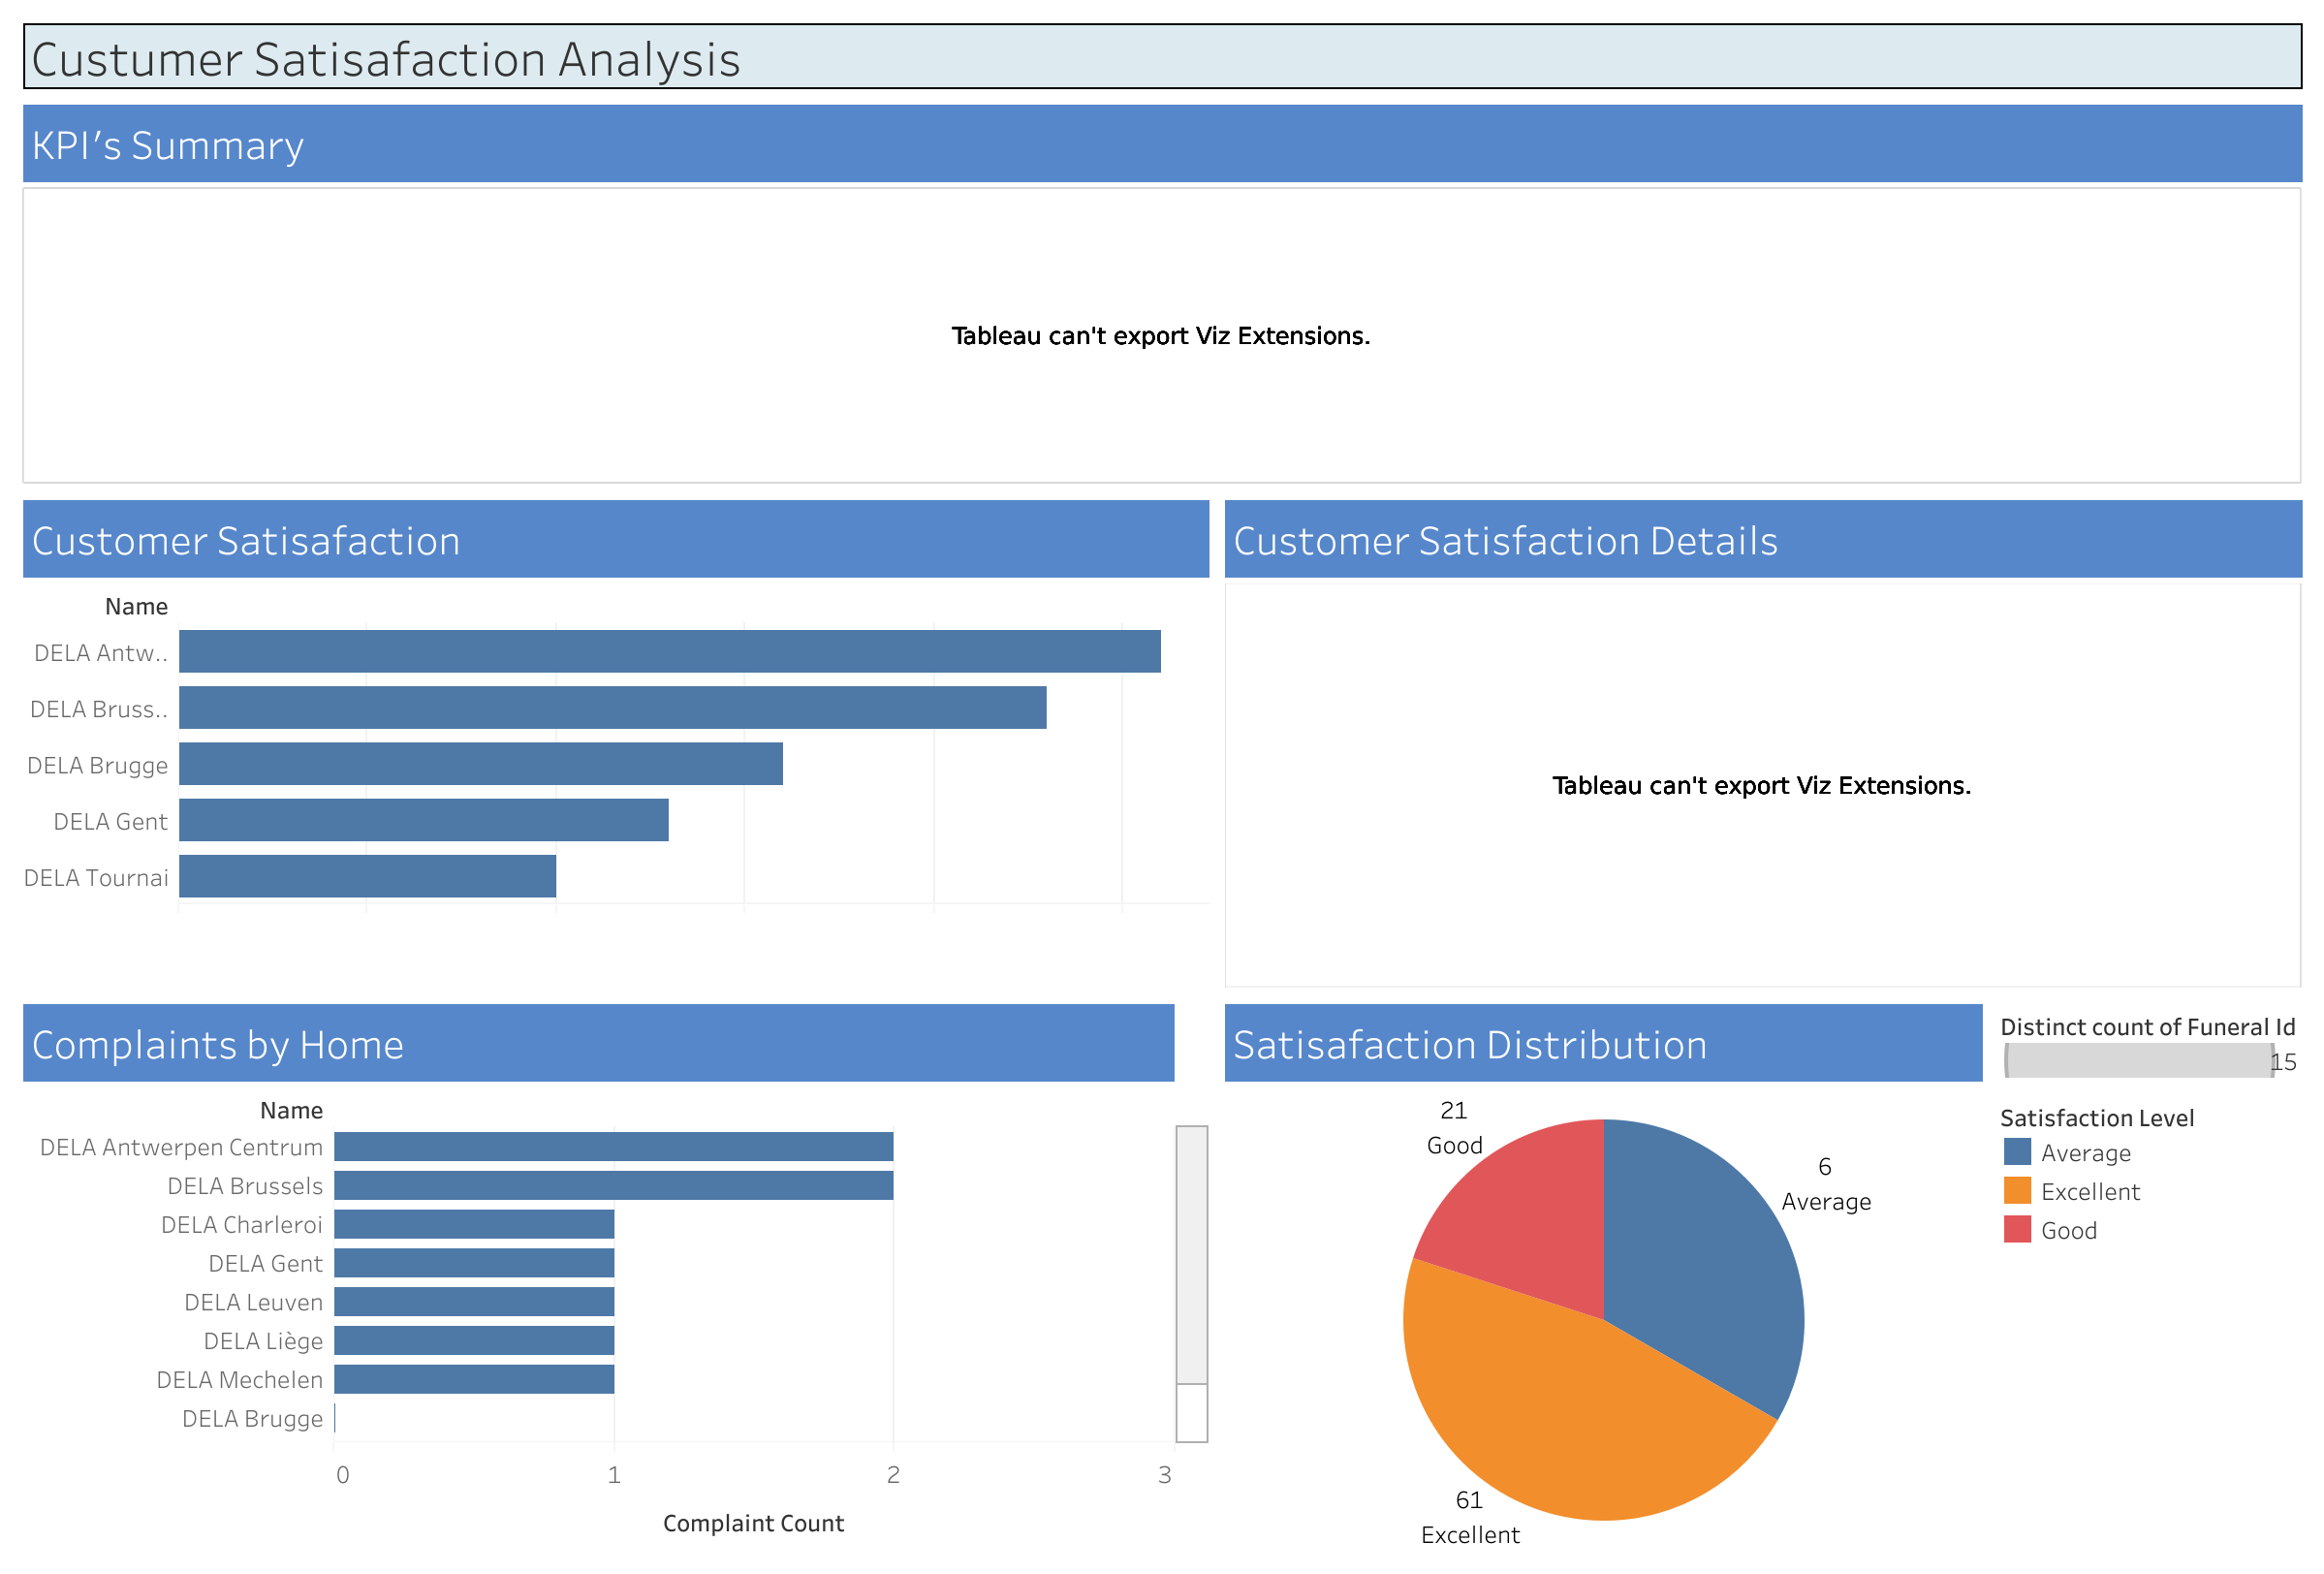

The page's visual inventory and layout, read from the dashboard file:
{"tool":"tableau","page":{"name":"Custumer Satisafaction Analysis","canvas":[1000,1000],"units":"permille","ordinal":0},"visuals":[{"type":"title","box":[6.7,9.3,986.7,48.8]},{"type":"worksheet","title":"KPI's Summary","box":[6.7,58.1,986.7,254.7]},{"type":"worksheet","title":"Customer Satisafaction","mark":"Automatic","rows":["name"],"cols":["avg_satisfaction"],"box":[6.7,312.8,516.6,319.8]},{"type":"worksheet","title":"Customer Satisfaction Details","box":[523.3,312.8,470,319.8]},{"type":"worksheet","title":"Complaints by Home","mark":"Automatic","rows":["name"],"cols":["complaint_count"],"box":[6.7,632.6,516.6,358.1]},{"type":"worksheet","title":"Satisafaction Distribution","mark":"Pie","box":[523.3,632.6,332.5,358.1]},{"type":"legend","title":"Satisafaction Distribution","param":"[federated.04lrj20014pgij1gtuk2e0mhx125].[ctd:funeral_id:qk]","box":[855.8,632.6,137.5,53.5]},{"type":"legend","title":"Satisafaction Distribution","param":"[federated.04lrj20014pgij1gtuk2e0mhx125].[none:Calculation_0168863997698048:nk]","box":[855.8,686.1,137.5,100]}]}

Visuals, with their boxes on the dashboard's canvas, which has no fixed pixel size, in thousandths of its width and height (x1, y1, x2, y2). These are canvas units, not pixel positions in the 2324x1574 screenshot, which may show the page scaled, cropped or inside an application window:
title: [7, 9, 993, 58]
"KPI's Summary" worksheet: [7, 58, 993, 313]
"Customer Satisafaction" worksheet: [7, 313, 523, 633]
"Customer Satisfaction Details" worksheet: [523, 313, 993, 633]
"Complaints by Home" worksheet: [7, 633, 523, 991]
"Satisafaction Distribution" worksheet (Pie marks): [523, 633, 856, 991]
"Satisafaction Distribution" legend: [856, 633, 993, 686]
"Satisafaction Distribution" legend: [856, 686, 993, 786]
